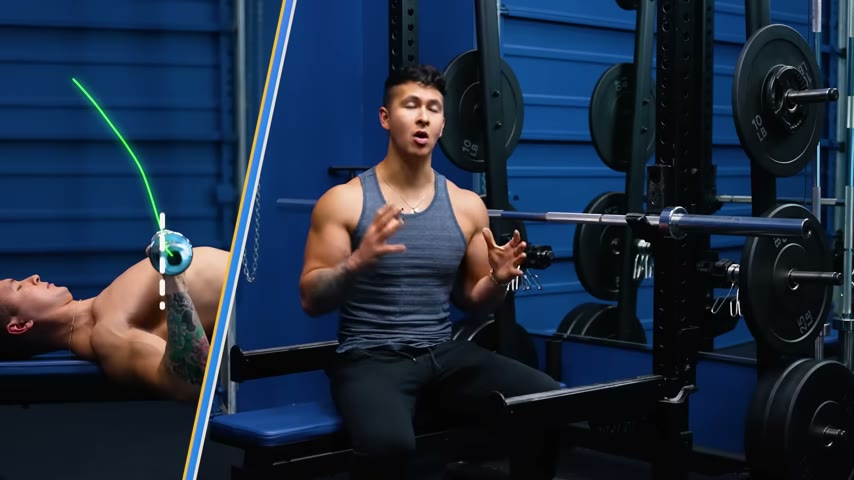barbell_plate_side: (727, 17, 797, 178)
